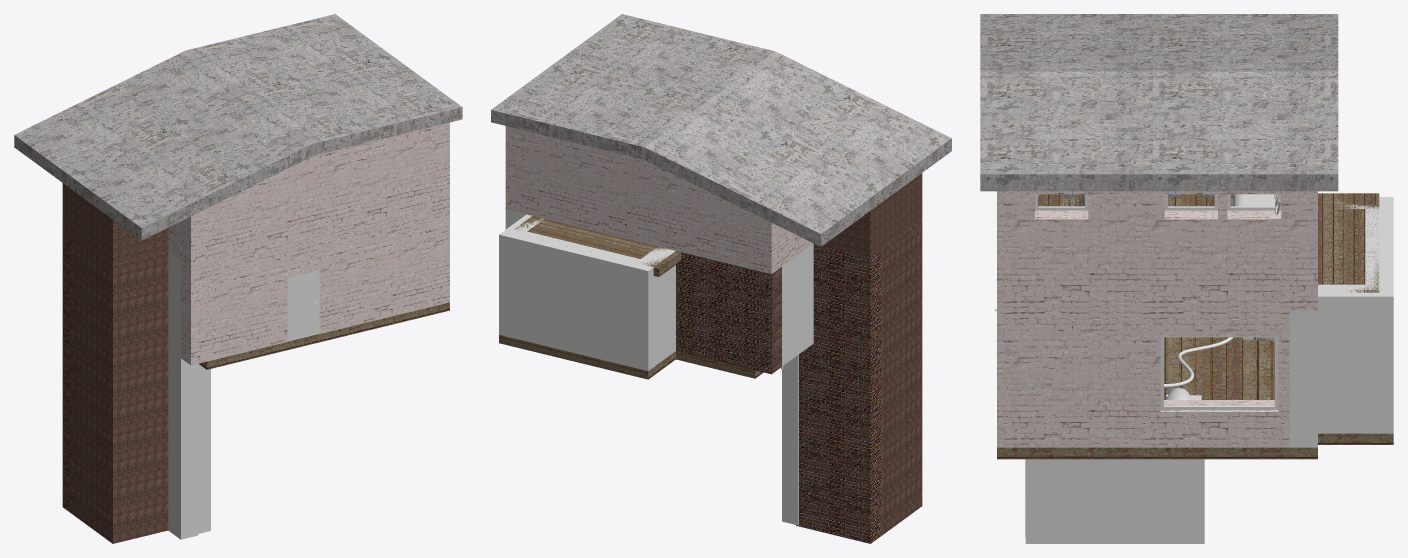
The model's file is RoomNew.fbx.
3 renders of one model, left to right at view 1: azimuth 30°, elevation 25°; view 2: azimuth 150°, elevation 25°; view 3: azimuth 270°, elevation 25°, orthographic. The views are drawn at different scales.
Visible parts, largest first — view 1: Базовая крыша Общая – 400 мм [1506637], Базовая стена Общая – 600 мм [1501944], Базовая стена Общая – 600 мм [1505581], Базовая стена Общая – 600 мм [1503821], Базовая стена Общая – 600 мм [1503906], Базовая стена Общая – 600 мм [1501990], Базовая стена Общая – 600 мм [1503735], Базовая стена Общая – 600 мм [1505714], Перекрытие Ж.б. – 150 мм пол 120 [1506931], Базовая стена Общая – 600 мм [1505315].001, Дверь - Однопольная 1100х2100 мм [1504477], Базовая стена Общая – 600 мм [1505315] (+3 smaller); view 2: Базовая крыша Общая – 400 мм [1506637], Базовая стена Общая – 600 мм [1503735], Базовая стена Общая – 600 мм [1505448], Базовая стена Общая – 600 мм [1504181], Базовая стена Общая – 600 мм [1503821], Базовая стена Общая – 600 мм [1501760], Базовая стена Общая – 600 мм [1504079], Базовая стена Общая – 600 мм [1504990], Базовая стена Общая – 600 мм [1505315].001, Перекрытие Ж.б. – 150 мм пол 120 [1509640], Перекрытие Ж.б. – 150 мм пол 120 [1506931], Базовая стена Общая – 600 мм [1505315] (+2 smaller); view 3: Базовая крыша Общая – 400 мм [1506637], Базовая стена Общая – 600 мм [1505516], Базовая стена Общая – 600 мм [1501837], Базовая стена Общая – 600 мм [1505315].001, Перекрытие Ж.б. – 150 мм пол 120 [1506931], Базовая стена Общая – 600 мм [1504240], Базовая стена Общая – 600 мм [1504181], Перекрытие Ж.б. – 150 мм пол 120 [1509640], Базовая стена Общая – 600 мм [1504382], Базовая стена Общая – 600 мм [1505448], Окно прямоугольное - одна стрв_401829d, Окно прямоугольное - одна стрв_06dd814 (+1 smaller).
Boxes of the visible parts, box(x1,y1,x2,y2) form: Базовая крыша Общая – 400 мм [1506637]: box(14, 14, 462, 240); Базовая стена Общая – 600 мм [1501944]: box(181, 209, 432, 365); Базовая стена Общая – 600 мм [1505581]: box(208, 127, 432, 263); Базовая стена Общая – 600 мм [1503821]: box(72, 236, 130, 543); Базовая стена Общая – 600 мм [1503906]: box(130, 251, 168, 539); Базовая стена Общая – 600 мм [1501990]: box(168, 252, 198, 539); Базовая стена Общая – 600 мм [1503735]: box(62, 228, 72, 513); Базовая стена Общая – 600 мм [1505714]: box(72, 190, 130, 264); Перекрытие Ж.б. – 150 мм пол 120 [1506931]: box(199, 302, 449, 369); Базовая стена Общая – 600 мм [1505315].001: box(198, 364, 210, 533); Дверь - Однопольная 1100х2100 мм [1504477]: box(287, 270, 319, 341); Базовая стена Общая – 600 мм [1505315]: box(168, 208, 208, 267); Базовая крыша Общая – 400 мм [1506637]: box(491, 14, 951, 246); Базовая стена Общая – 600 мм [1503735]: box(796, 243, 880, 543); Базовая стена Общая – 600 мм [1505448]: box(505, 126, 753, 269); Базовая стена Общая – 600 мм [1504181]: box(499, 227, 640, 366); Базовая стена Общая – 600 мм [1503821]: box(881, 220, 922, 535); Базовая стена Общая – 600 мм [1501760]: box(676, 252, 781, 374); Базовая стена Общая – 600 мм [1504079]: box(630, 247, 675, 370); Базовая стена Общая – 600 мм [1504990]: box(782, 244, 813, 366); Базовая стена Общая – 600 мм [1505315].001: box(782, 354, 798, 525); Перекрытие Ж.б. – 150 мм пол 120 [1509640]: box(514, 216, 681, 276); Перекрытие Ж.б. – 150 мм пол 120 [1506931]: box(499, 335, 763, 379); Базовая стена Общая – 600 мм [1505315]: box(753, 214, 813, 273); Базовая крыша Общая – 400 мм [1506637]: box(980, 14, 1338, 191); Базовая стена Общая – 600 мм [1505516]: box(997, 191, 1289, 310); Базовая стена Общая – 600 мм [1501837]: box(997, 310, 1289, 447); Базовая стена Общая – 600 мм [1505315].001: box(1025, 459, 1204, 543); Перекрытие Ж.б. – 150 мм пол 120 [1506931]: box(997, 337, 1393, 459); Базовая стена Общая – 600 мм [1504240]: box(1318, 284, 1365, 433); Базовая стена Общая – 600 мм [1504181]: box(1365, 209, 1393, 433); Перекрытие Ж.б. – 150 мм пол 120 [1509640]: box(1038, 193, 1379, 292); Базовая стена Общая – 600 мм [1504382]: box(1289, 310, 1317, 447); Базовая стена Общая – 600 мм [1505448]: box(1289, 191, 1317, 310); Окно прямоугольное - одна стрв_401829d: box(1160, 336, 1278, 409); Окно прямоугольное - одна стрв_06dd814: box(1035, 194, 1281, 210).
Size of the model in its own units: 1104 by 1247 by 876.
14 materials, 11 textured.
